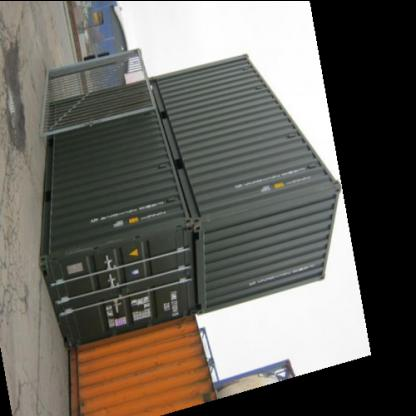Damage: (182, 366, 216, 404), (62, 238, 132, 254), (197, 208, 256, 223), (76, 393, 112, 412)
